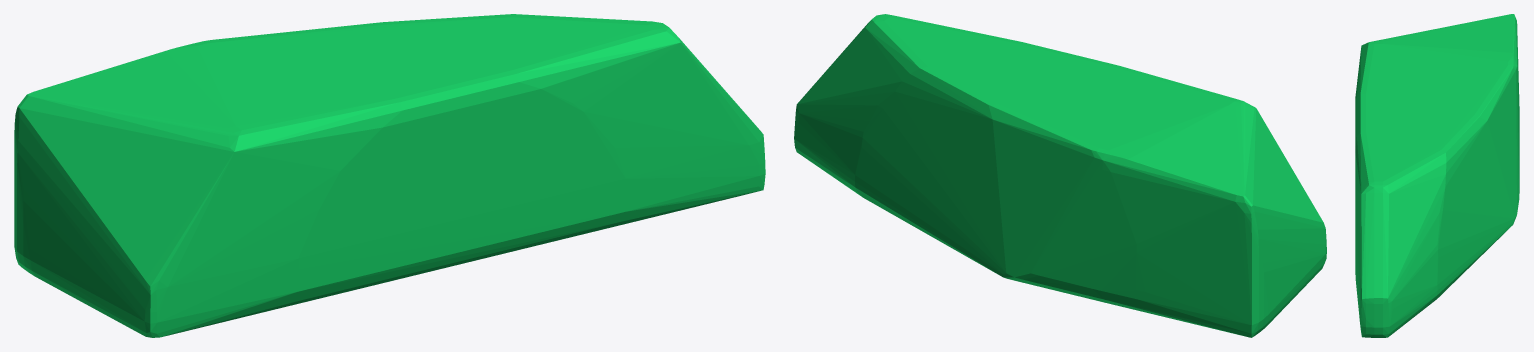
Rendered from left_hip_yaw_link_part_23.obj.
3 renders of one model, left to right at view 1: azimuth 30°, elevation 25°; view 2: azimuth 150°, elevation 25°; view 3: azimuth 270°, elevation 25°, orthographic. The views are drawn at different scales.
Size of the model in its own units: 0.1287 by 0.0342 by 0.0416.
